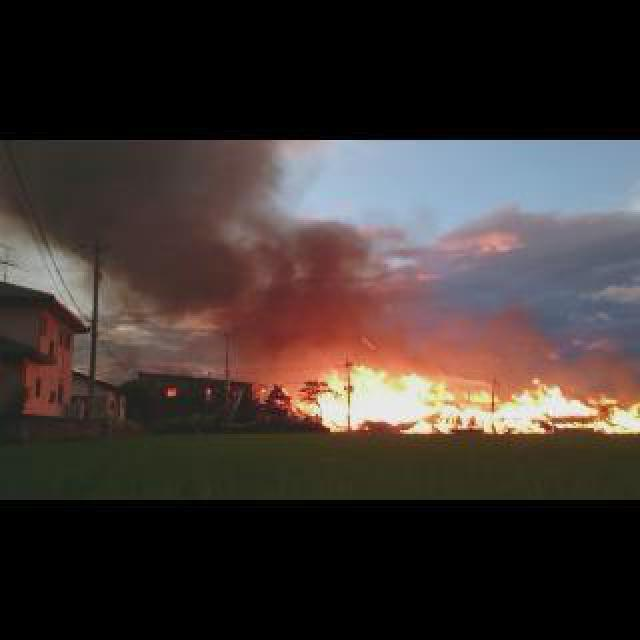Fire: (280, 364, 636, 434), (166, 388, 174, 396), (260, 386, 266, 394)
Smoke: (0, 137, 394, 366), (434, 292, 550, 384)
